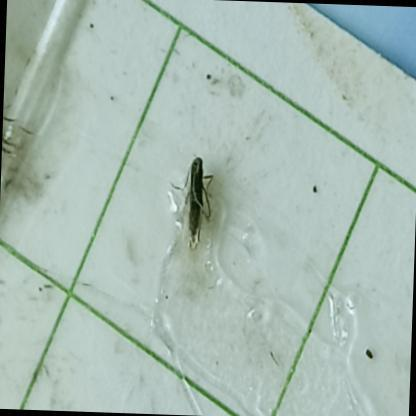prays_oleae: (170, 146, 226, 245)
